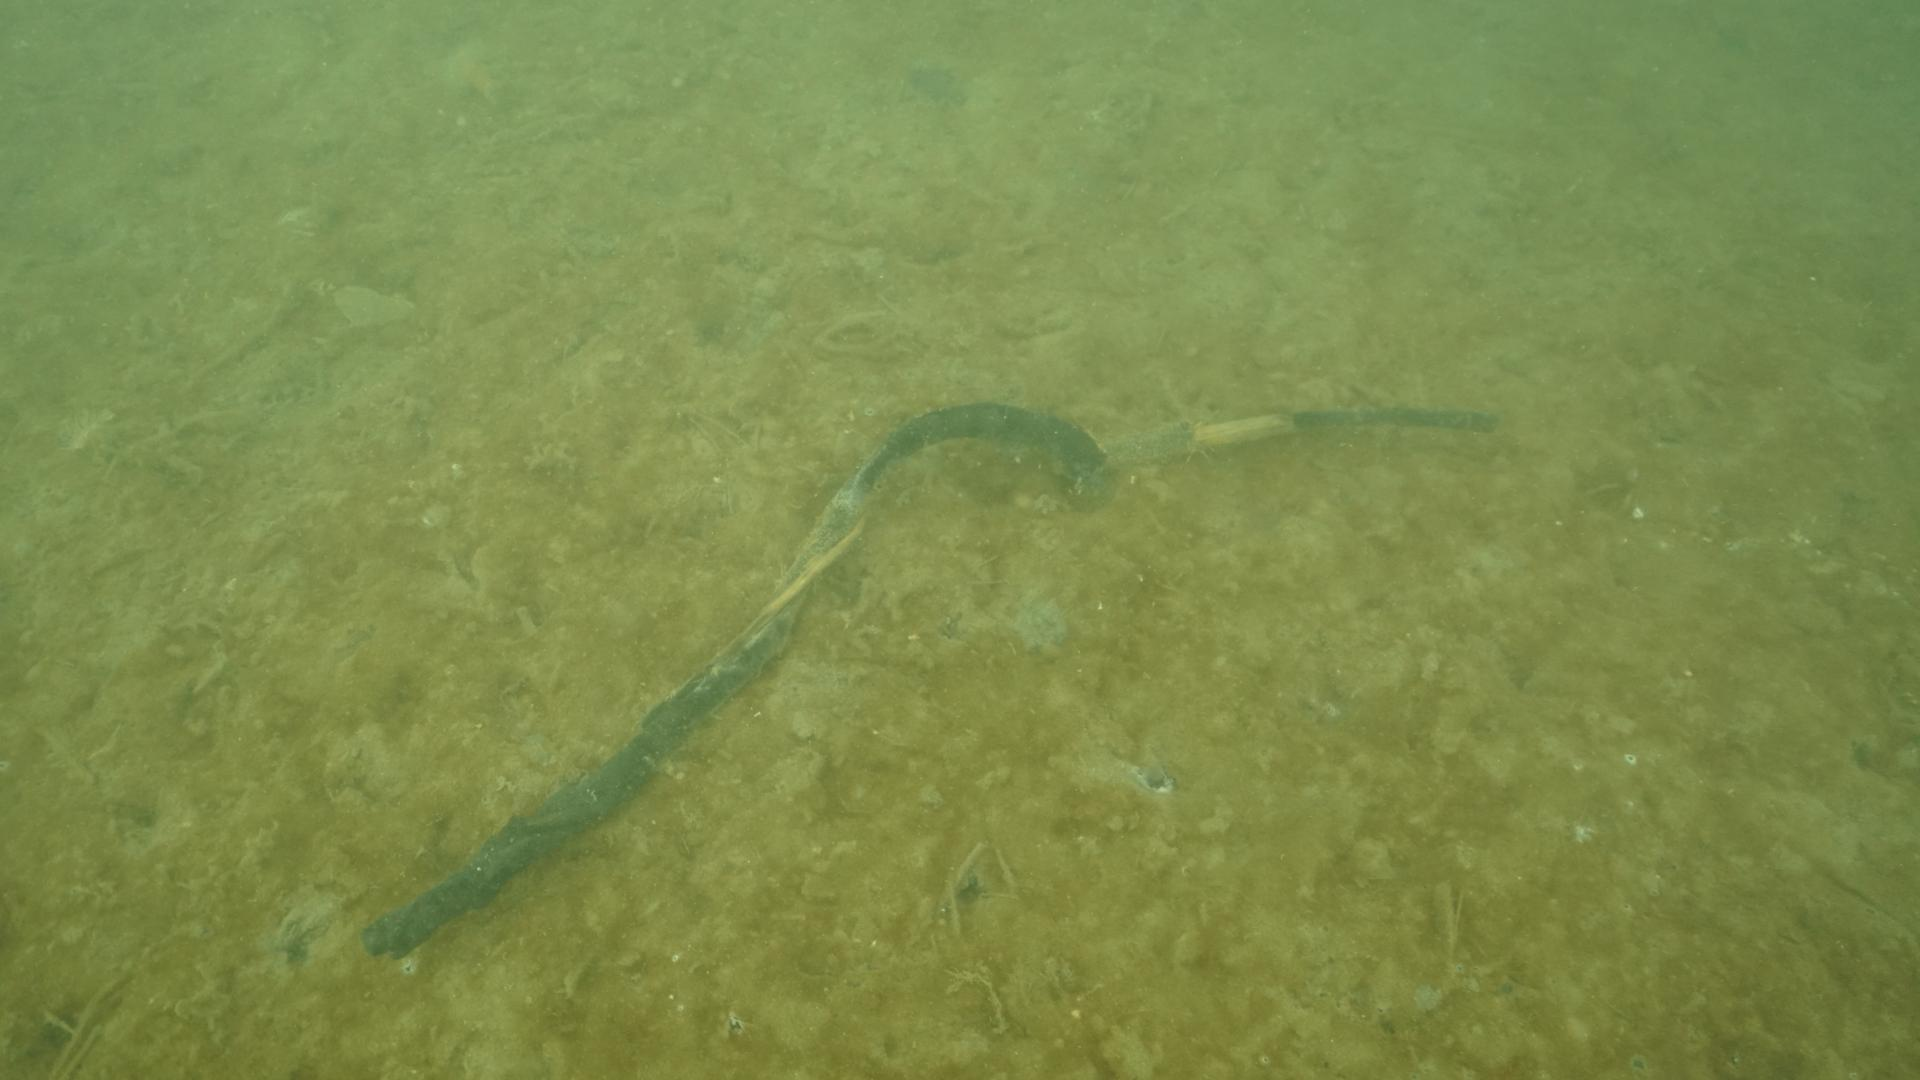wood: (356, 402, 1493, 961)
